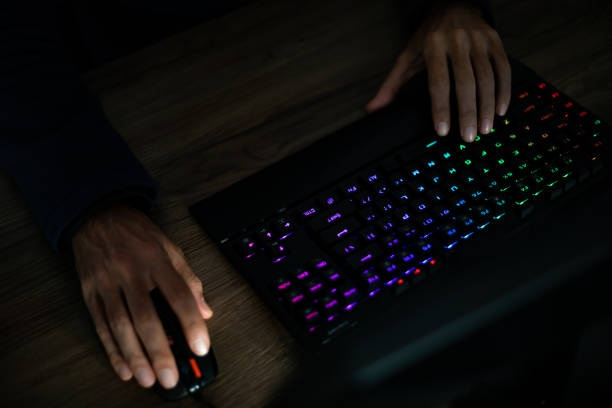keyboard: (222, 79, 612, 342)
mouse: (119, 286, 225, 404)
